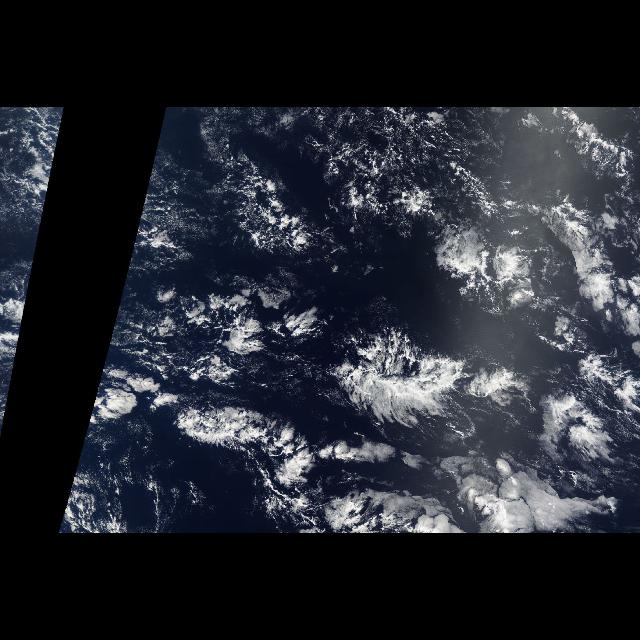Fish: (158, 316, 488, 534)
Gravel: (326, 128, 464, 188)
